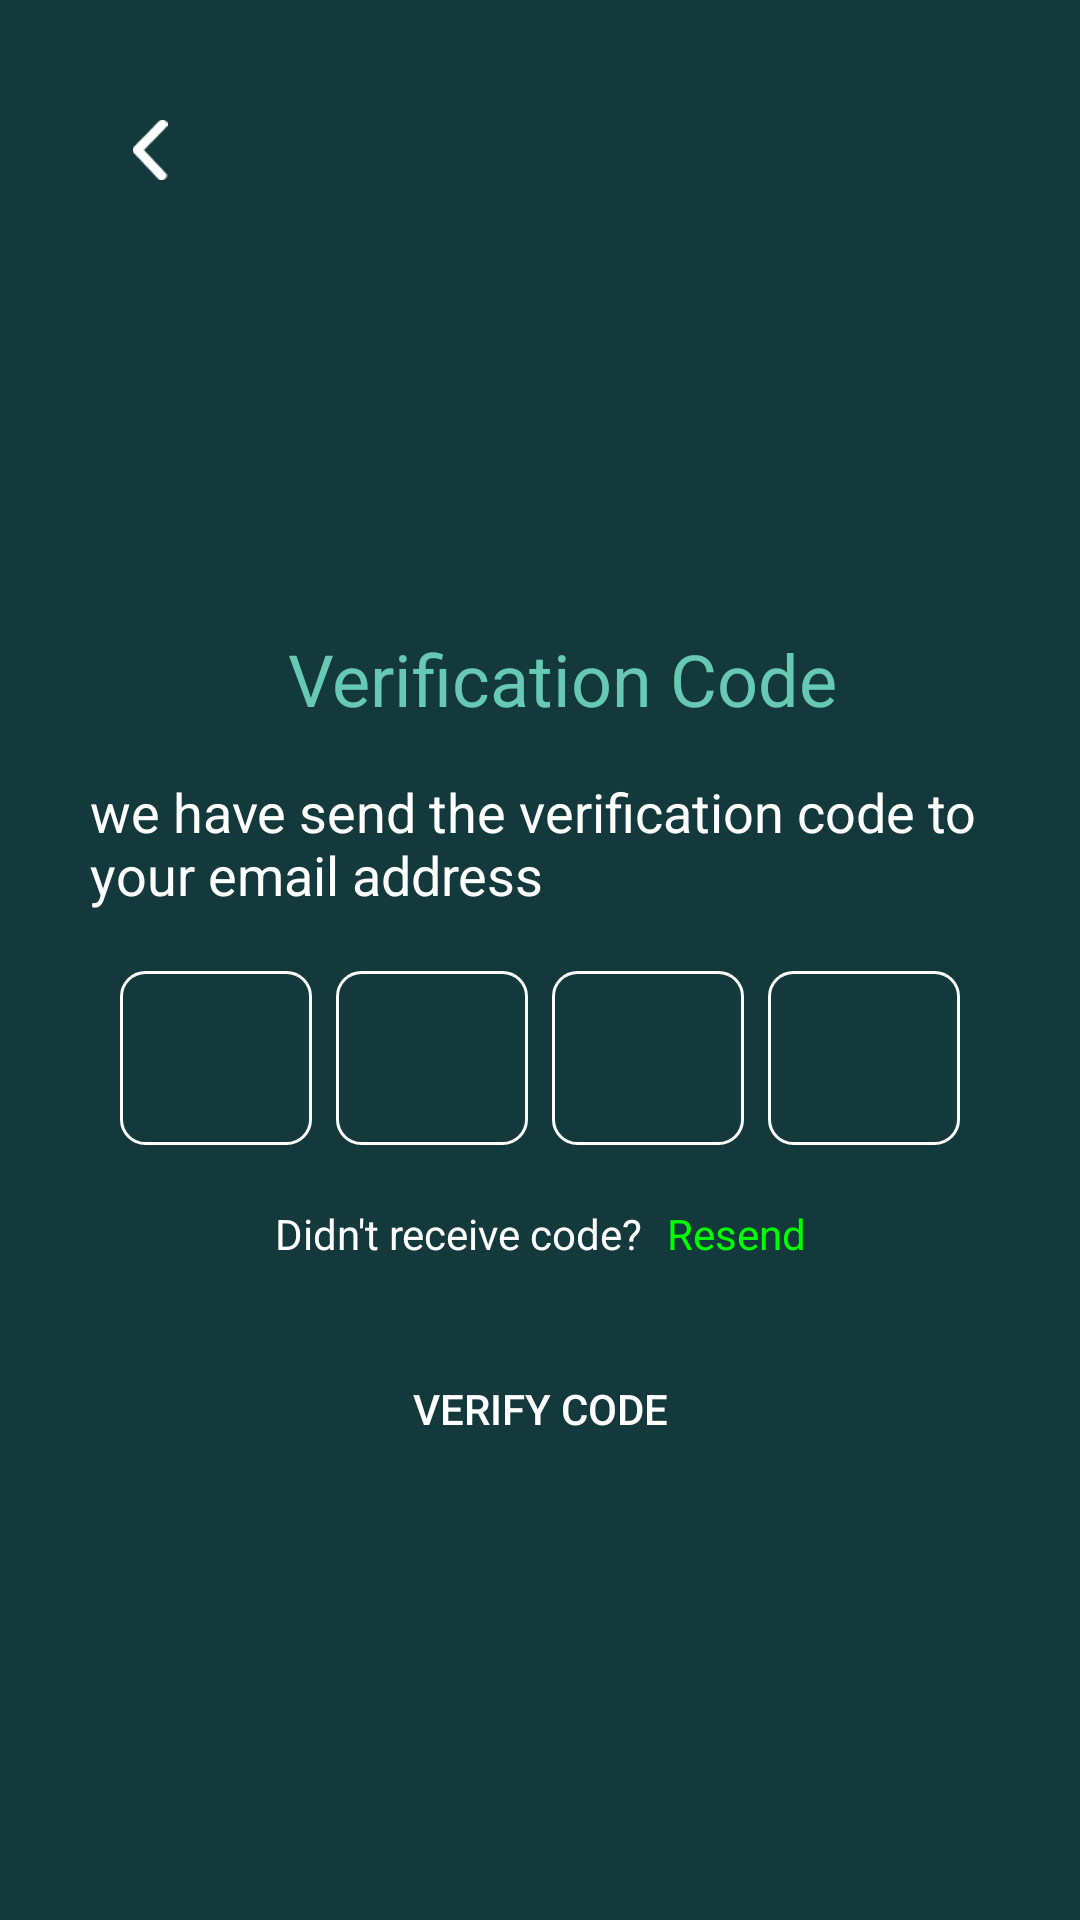

Icon bounding boxes for this 1080px x 1920px phone screenshot, format (x1, y1, x2, y2):
upscaledarrow: (133, 120, 168, 180)
